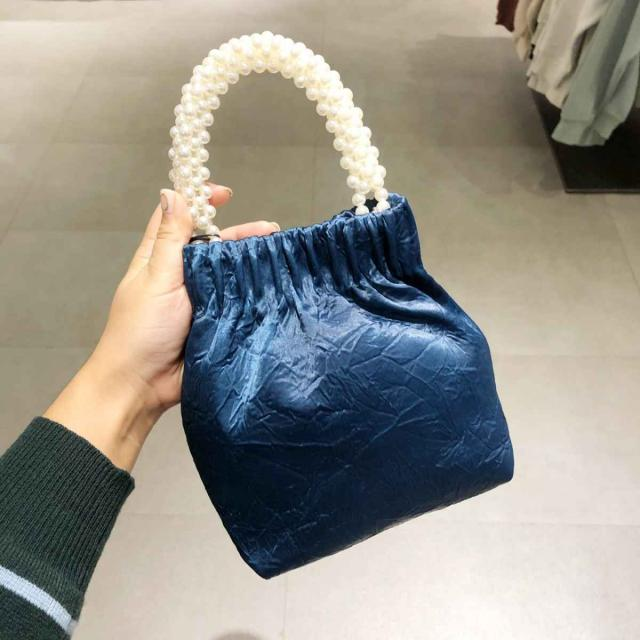handbag: (173, 194, 522, 577)
